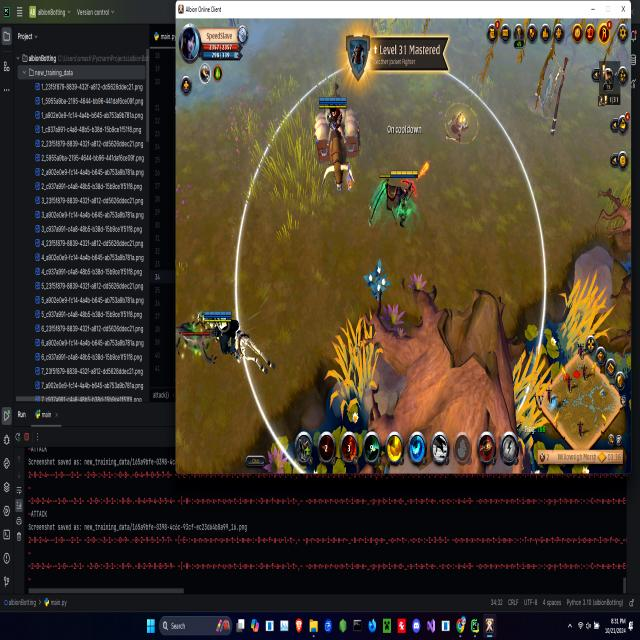hide: (362, 252, 394, 312)
ore: (174, 317, 222, 368)
red: (312, 82, 362, 200), (197, 308, 273, 380), (390, 162, 420, 234)
